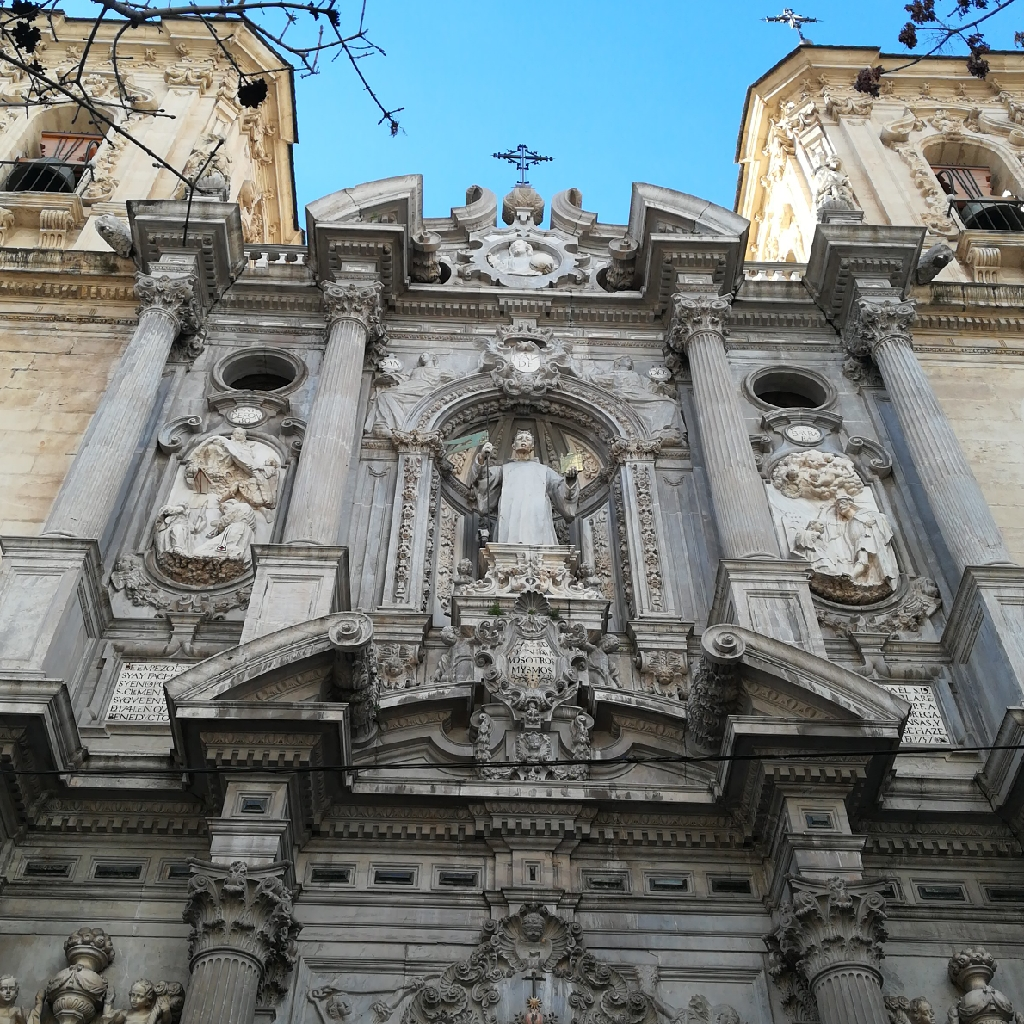arco-medio-punto: (414, 375, 637, 490)
fronton-partido: (155, 609, 911, 752), (291, 178, 747, 264)
ojo-de-buey: (210, 343, 303, 399), (741, 363, 835, 417)
